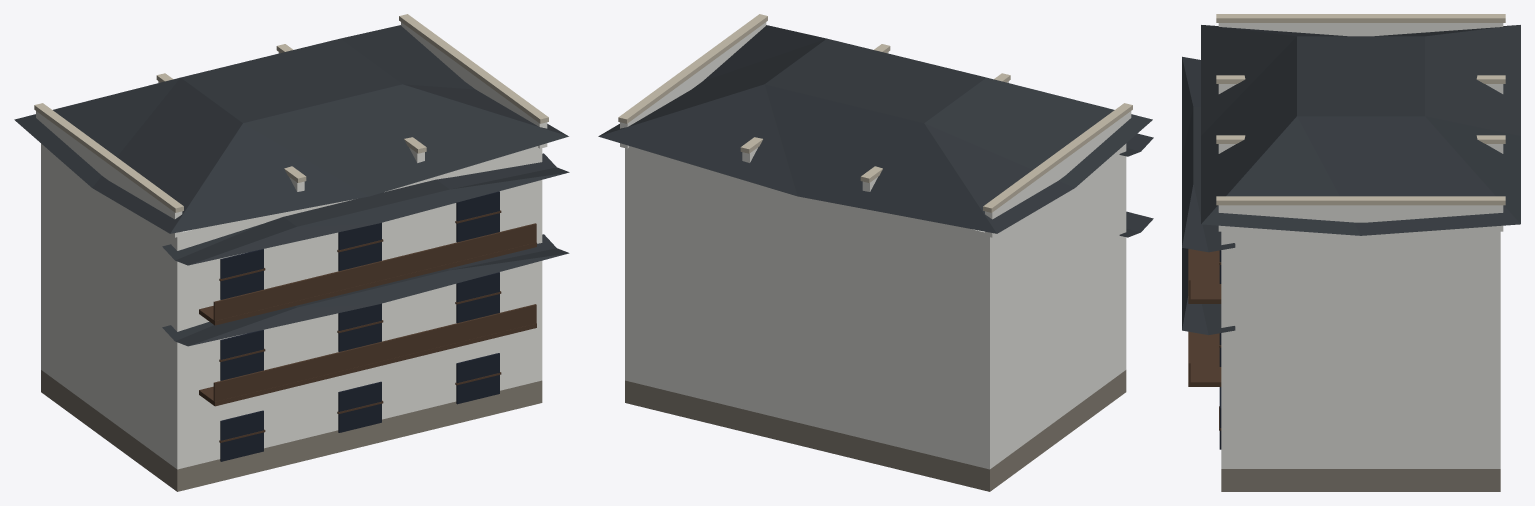
Rendered from building_eastyork_s2_jiangnan_flats.glb.
3 renders of one model, left to right at view 1: azimuth 30°, elevation 25°; view 2: azimuth 150°, elevation 25°; view 3: azimuth 270°, elevation 25°, orthographic. The views are drawn at different scales.
Parts seen in each view (by area): view 1: building_eastyork_s2_jiangnan_flats; view 2: building_eastyork_s2_jiangnan_flats; view 3: building_eastyork_s2_jiangnan_flats.
Part boxes in pixels (box(x1,y1,x2,y2)): building_eastyork_s2_jiangnan_flats: box(14, 14, 569, 491); building_eastyork_s2_jiangnan_flats: box(598, 14, 1153, 491); building_eastyork_s2_jiangnan_flats: box(1182, 14, 1520, 491).
Bounding box in the file's own units: 18.6 × 14.1 × 13.35.
1 material, 1 textured.
